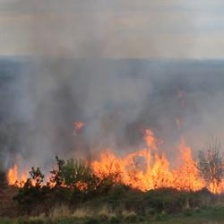fire: (3, 130, 224, 200)
smoke: (11, 3, 204, 125)
